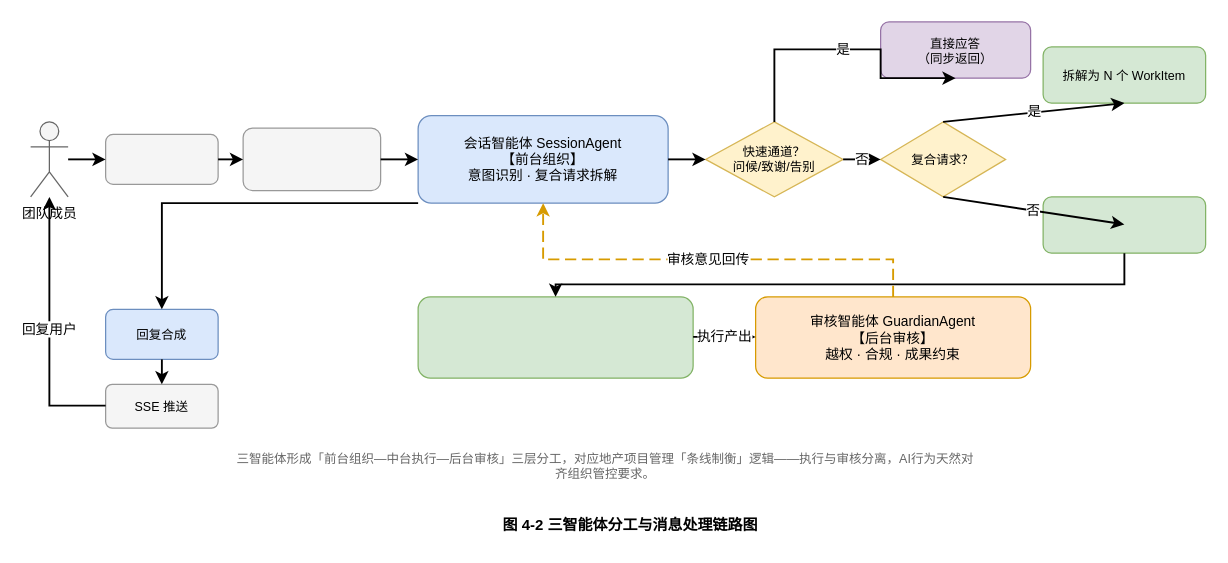
The diagram is 1228 pixels wide and 563 high, and some of its shapes have lost their labels. Here are the shapes that lost their labels. From the top down, the centre of each, then its label:
At point (161, 158): "IM 渠道".
At point (311, 159): "薄插件 去重 · 标准化".
At point (1124, 224): "创建 1 个 WorkItem".
At point (555, 337): "任务智能体 WorkItemAgent 【中台执行】 结构化输出优先 · 五节点流转".
